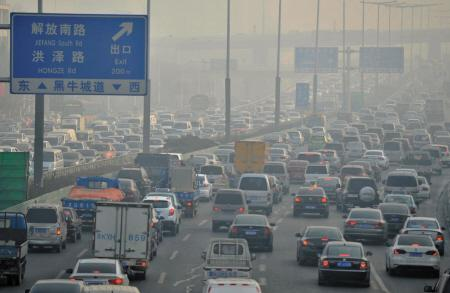bus: (92, 201, 159, 281), (59, 176, 119, 234), (200, 238, 256, 281), (1, 212, 26, 288), (134, 149, 179, 189), (231, 138, 270, 175), (62, 98, 100, 128), (188, 94, 220, 115), (59, 112, 84, 135), (171, 121, 192, 136), (155, 112, 172, 126)
car: (315, 240, 373, 289), (385, 231, 440, 277), (293, 224, 345, 268), (23, 204, 68, 252), (226, 213, 277, 254), (67, 257, 129, 289), (335, 173, 380, 213), (138, 190, 178, 235), (212, 186, 249, 234), (400, 215, 444, 255), (342, 207, 387, 243), (41, 205, 82, 243), (235, 173, 272, 215), (382, 170, 421, 207), (375, 201, 414, 238), (291, 184, 330, 219), (111, 166, 153, 197), (399, 149, 434, 183), (379, 193, 418, 221), (27, 149, 65, 177), (260, 160, 291, 194), (178, 171, 213, 201), (106, 177, 142, 206), (200, 277, 262, 293), (336, 163, 371, 191), (313, 174, 343, 206), (253, 172, 283, 203), (198, 162, 229, 191), (348, 157, 382, 183), (25, 278, 85, 292), (415, 146, 443, 175), (400, 174, 431, 198), (191, 150, 223, 173), (302, 162, 330, 188), (295, 149, 322, 175), (40, 130, 65, 156), (311, 146, 340, 168), (57, 151, 87, 172), (283, 158, 311, 180), (361, 148, 390, 169), (51, 128, 77, 151), (389, 136, 414, 159), (427, 143, 450, 168), (74, 148, 102, 168), (65, 139, 88, 163), (6, 131, 30, 154), (89, 143, 116, 163), (266, 141, 294, 160), (82, 284, 141, 293), (343, 140, 367, 162), (321, 141, 345, 163), (382, 139, 403, 164), (48, 144, 71, 166), (1, 137, 22, 157), (108, 141, 130, 160), (212, 142, 236, 159), (19, 127, 39, 147), (283, 128, 304, 146), (307, 135, 328, 152), (76, 130, 95, 148), (122, 140, 143, 156), (2, 145, 19, 163), (144, 137, 164, 152), (93, 124, 110, 141), (105, 134, 124, 149), (124, 133, 141, 149), (116, 127, 133, 142), (159, 118, 173, 131)
